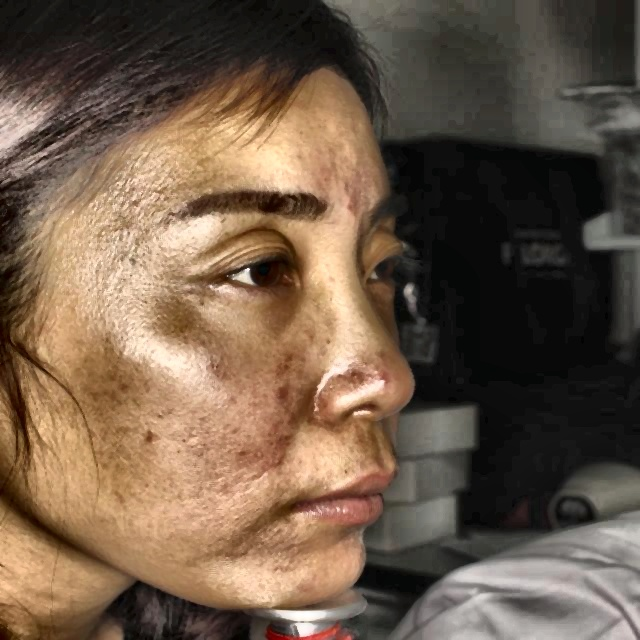comedone: (338, 195, 369, 231), (376, 370, 399, 398)
